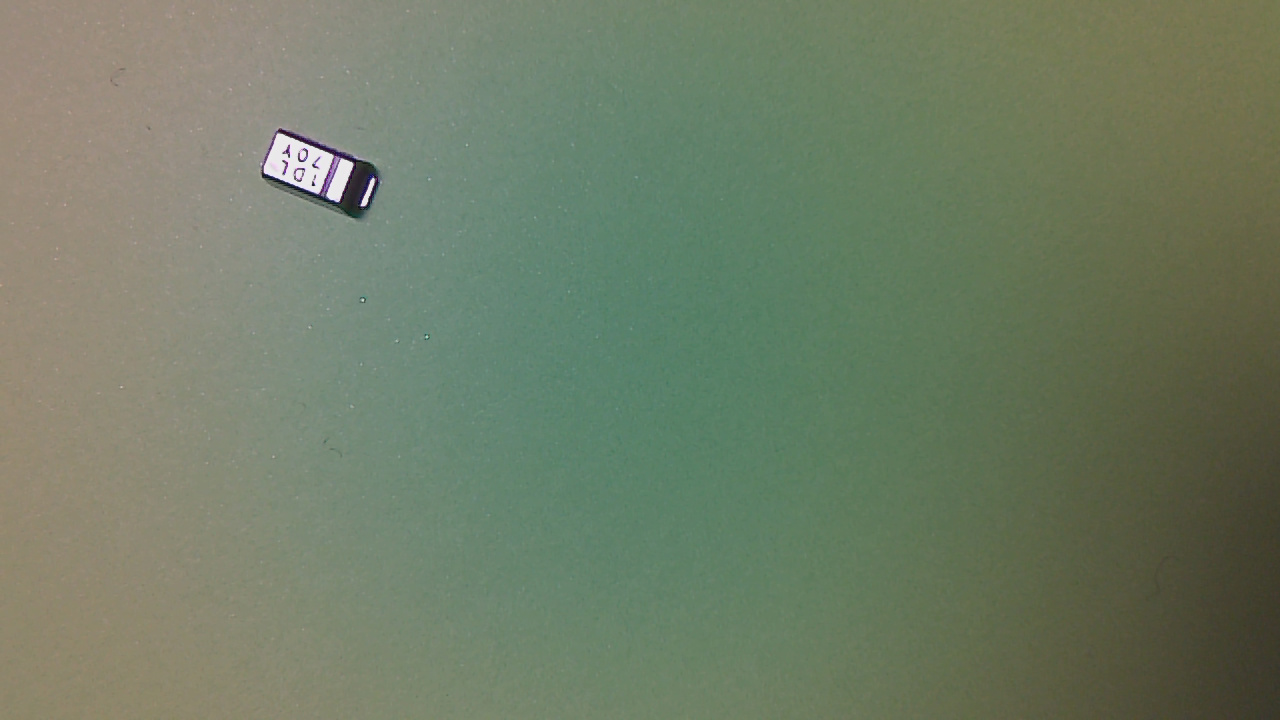Diode: (264, 130, 389, 221)
